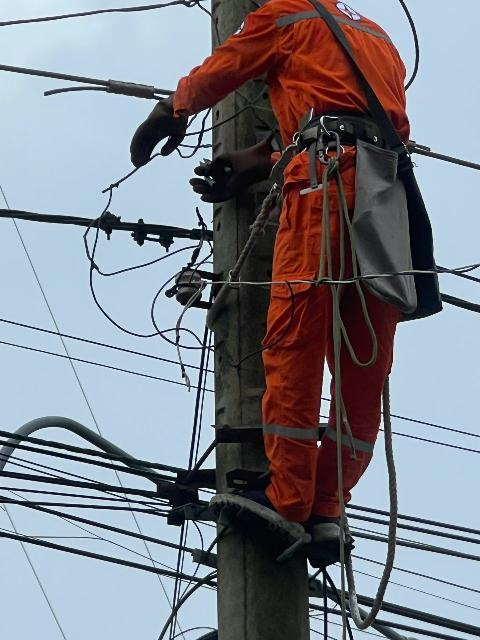gloves: (184, 128, 299, 192), (118, 88, 198, 170)
harness: (275, 98, 422, 195)
shoes: (211, 473, 311, 551), (310, 499, 374, 566)
